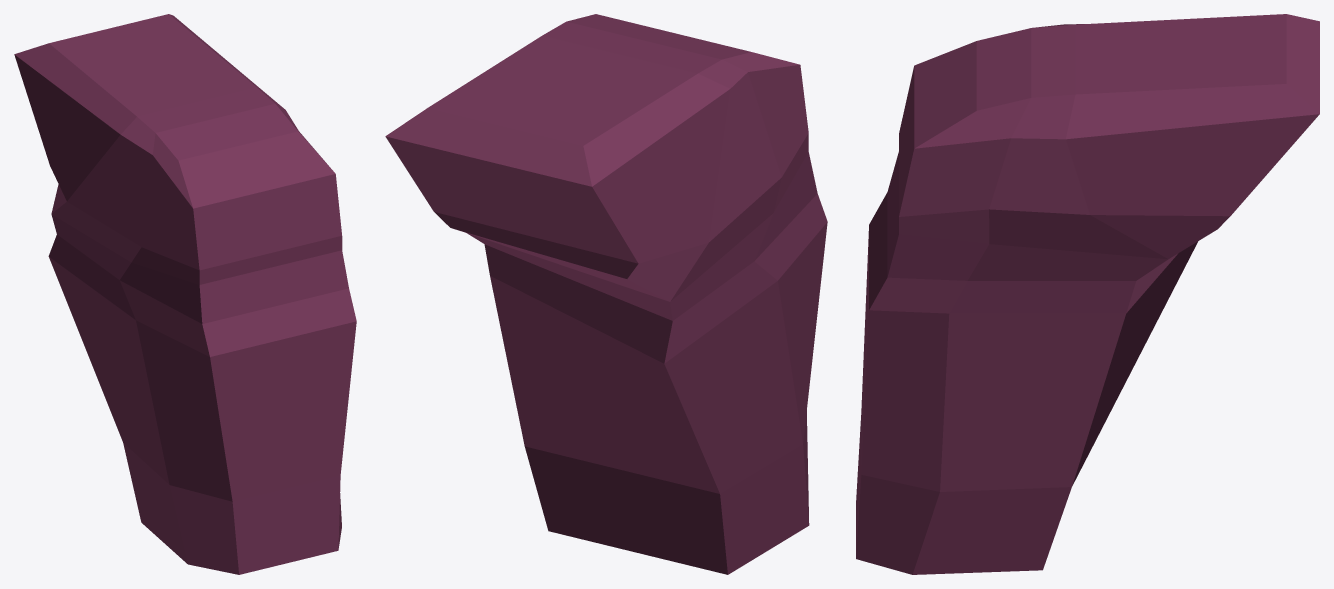
The model's file is migikata.obj.
The picture shows the model from 3 angles, left to right: view 1: azimuth 30°, elevation 25°; view 2: azimuth 150°, elevation 25°; view 3: azimuth 270°, elevation 25°; orthographic projection. The views are drawn at different scales.
Visible parts, largest first — view 1: pCube2 pCube3; view 2: pCube2 pCube3; view 3: pCube2 pCube3.
Part boxes in pixels (bbox=[...]): pCube2 pCube3: bbox=[14, 14, 356, 574]; pCube2 pCube3: bbox=[385, 14, 827, 574]; pCube2 pCube3: bbox=[856, 14, 1319, 574].
Size of the model in its own units: 0.4721 by 0.9307 by 0.813.
1 material, 1 textured.
